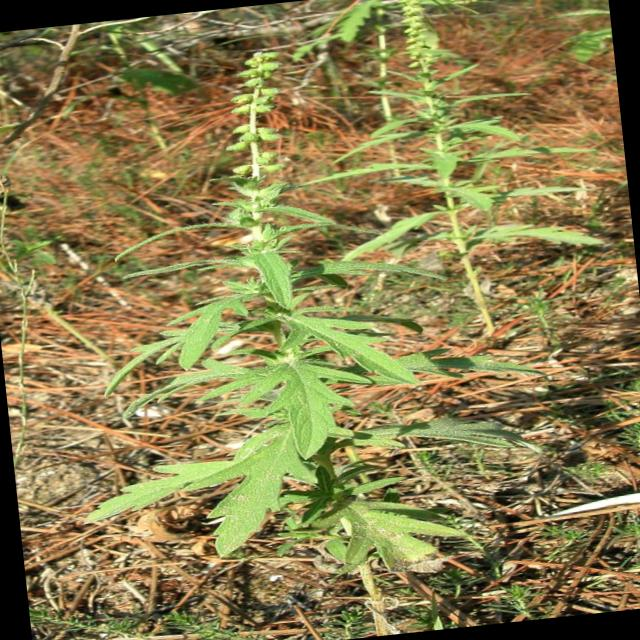ambrosia: (90, 32, 452, 599)
